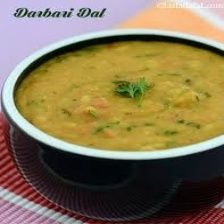dal: (8, 27, 224, 157)
